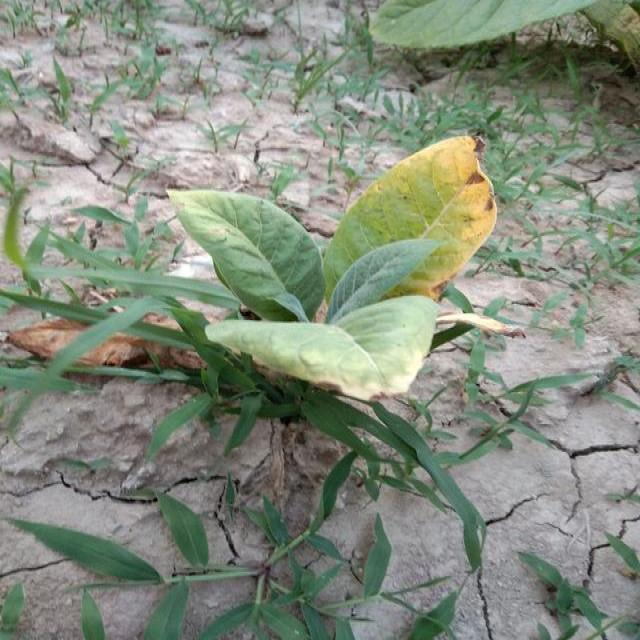crop: (178, 138, 498, 402), (376, 0, 638, 56)
